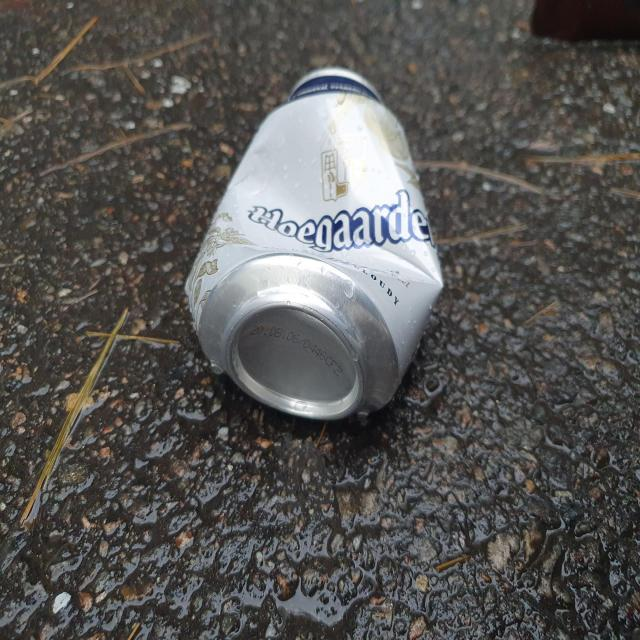can: (185, 66, 444, 420)
